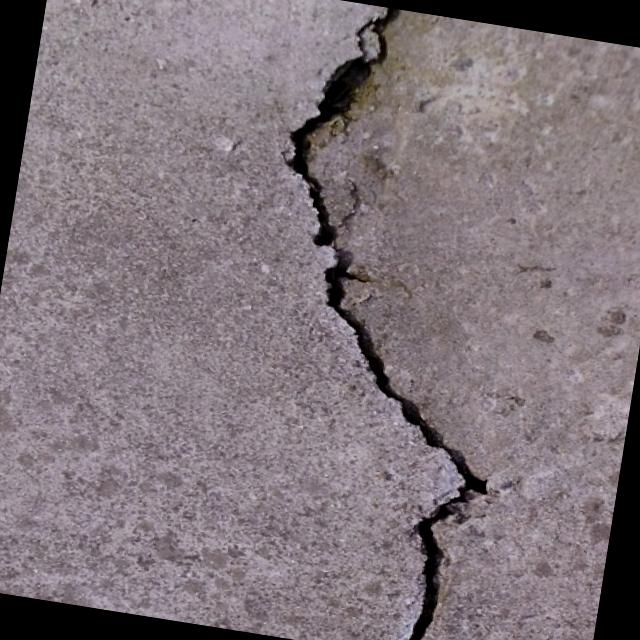crack: (283, 311, 526, 640)
spall: (265, 0, 459, 322)
